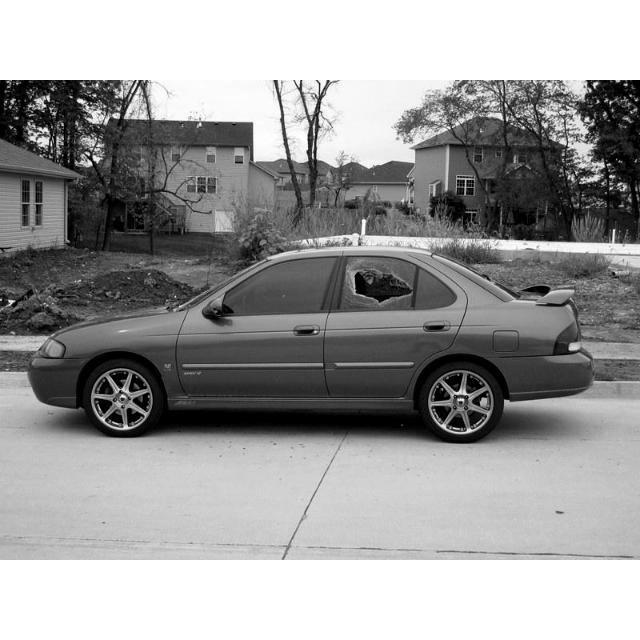Runningboard-Damage: (161, 395, 417, 415)
doorouter-dent: (337, 252, 441, 390), (174, 319, 305, 401)
